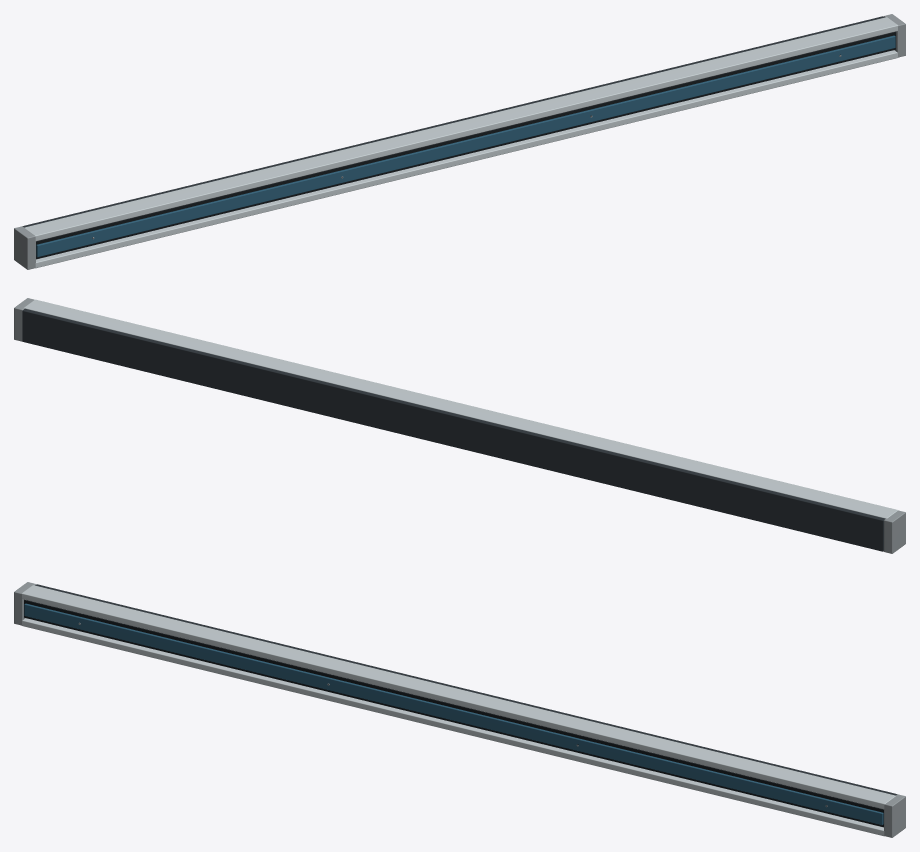
Rendered from AD_reveal_Manufactured.fbx.
3 renders of one model, top to bottom at view 1: azimuth 30°, elevation 25°; view 2: azimuth 150°, elevation 25°; view 3: azimuth 330°, elevation 25°, orthographic.
Visible parts, largest first — view 1: AD_reveal_Manufactured; view 2: AD_reveal_Manufactured; view 3: AD_reveal_Manufactured.
Part boxes in pixels (x1=…): AD_reveal_Manufactured: x1=14, y1=14, x2=905, y2=269; AD_reveal_Manufactured: x1=14, y1=298, x2=905, y2=553; AD_reveal_Manufactured: x1=14, y1=582, x2=905, y2=837.
Size of the model in its own units: 2.8 by 0.1 by 0.0794.
